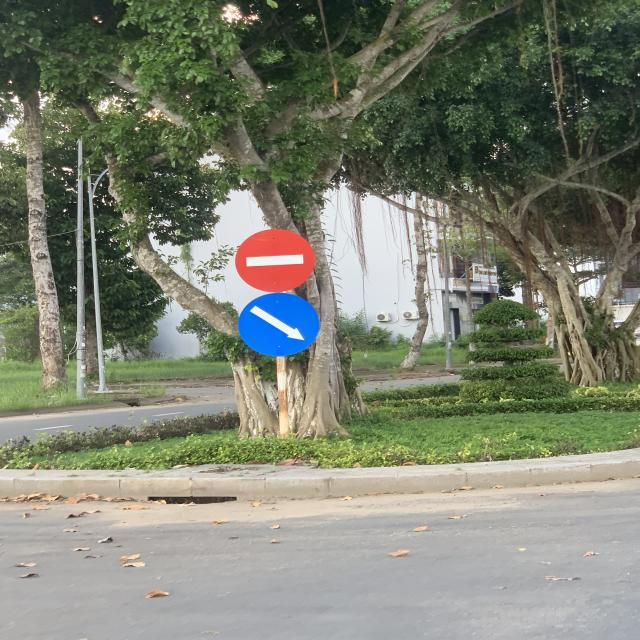Cam_Di_Nguoc_Chieu: (235, 230, 312, 290)
Chi_Huong_Di_Phai: (238, 292, 320, 358)
